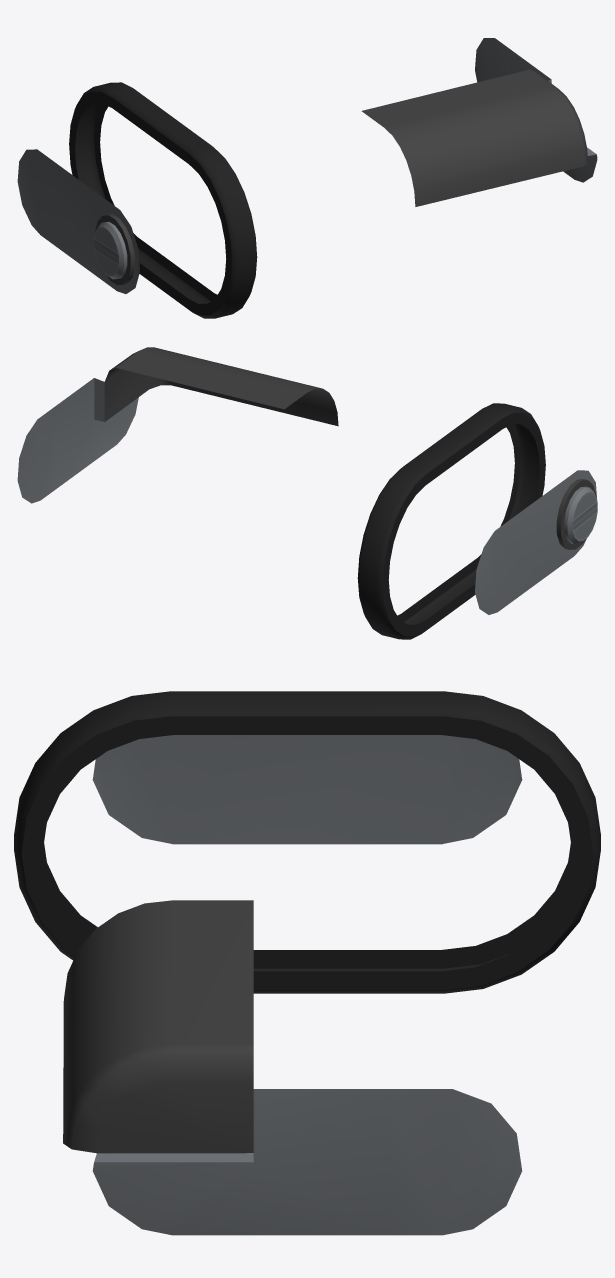
The model's file is env_ruin_container_01_lod0.fbx.
The picture shows the model from 3 angles, top to bottom: view 1: azimuth 30°, elevation 25°; view 2: azimuth 150°, elevation 25°; view 3: azimuth 270°, elevation 25°; orthographic projection. The views are drawn at different scales.
Visible parts, largest first — view 1: env_ruin_container_01_lod0; view 2: env_ruin_container_01_lod0; view 3: env_ruin_container_01_lod0.
Boxes of the visible parts, x1,y1,x2,y2 form: env_ruin_container_01_lod0: (17,38,597,318); env_ruin_container_01_lod0: (17,347,597,639); env_ruin_container_01_lod0: (14,691,600,1235).
Size of the model in its own units: 106 by 35.38 by 65.49.
